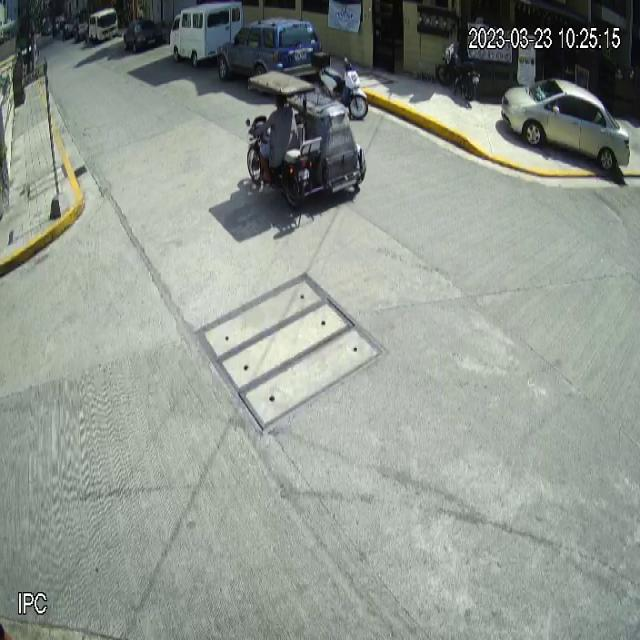Car: (501, 76, 631, 171), (219, 15, 325, 94)
Motorcycle: (312, 48, 369, 120)
Tricycle: (244, 71, 368, 209)
Van: (170, 1, 245, 67)
